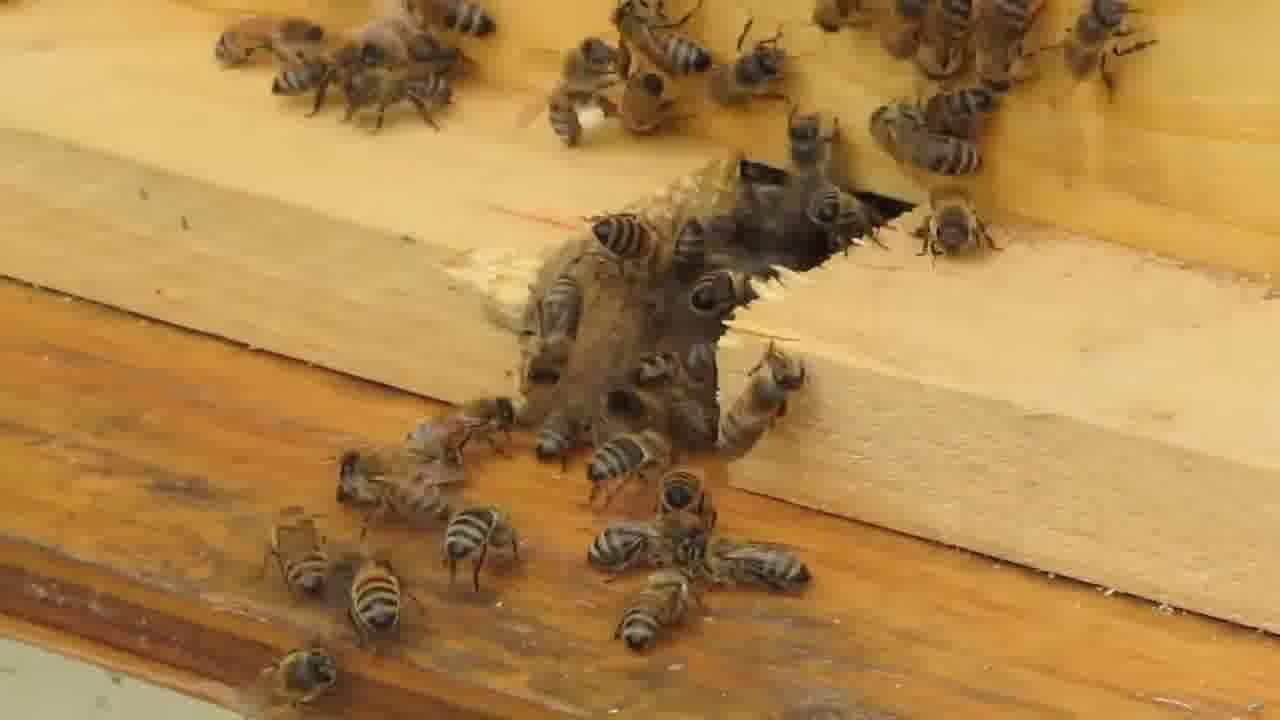pollen: (545, 35, 614, 150)
